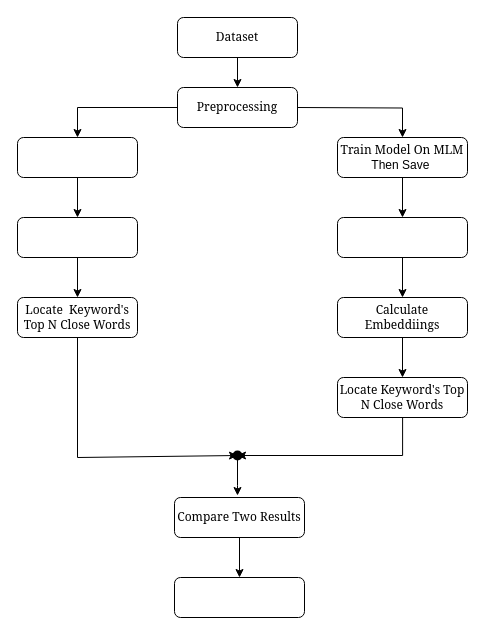
This 485x635 diagram has some shape labels left out. The shapes that lost their labels are listed below. From the top down, each one's box as (x1, y1, x2, y2) in pixels, then its label:
(16, 136, 138, 178): Train On TF-IDF
(16, 216, 138, 258): Calculate Embeddings
(336, 216, 468, 258): Restore Model
(174, 576, 304, 618): End
